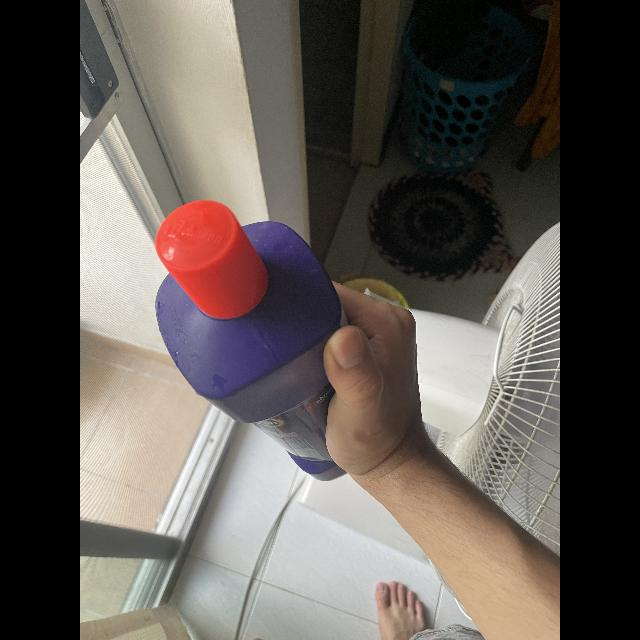chemical_plastic_bottle: (147, 195, 390, 490)
